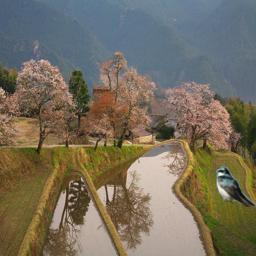Swallow: (216, 166, 256, 207)
